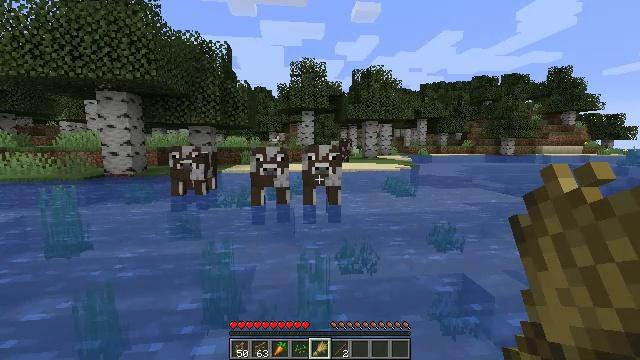cow: (252, 146, 291, 206), (302, 145, 340, 205), (170, 147, 217, 194), (332, 140, 351, 162)
